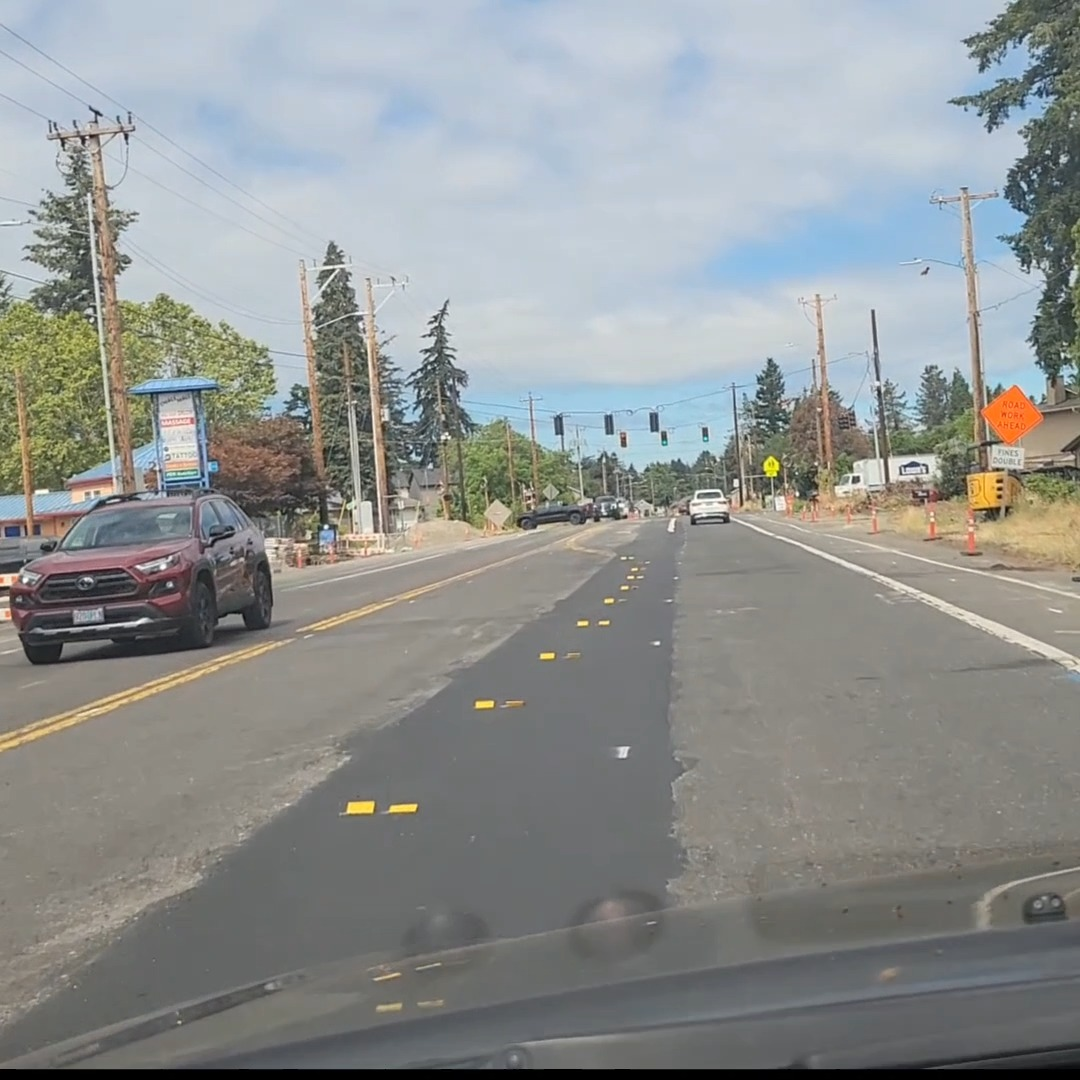car: (9, 487, 273, 660), (516, 501, 593, 530), (687, 489, 731, 525), (593, 495, 626, 520), (671, 498, 690, 515)
crosswalk-sign: (762, 455, 780, 477)
delineator: (961, 512, 981, 556), (923, 499, 939, 540), (868, 505, 879, 533), (844, 502, 853, 524), (811, 500, 819, 521), (800, 502, 808, 520), (784, 497, 791, 515)
